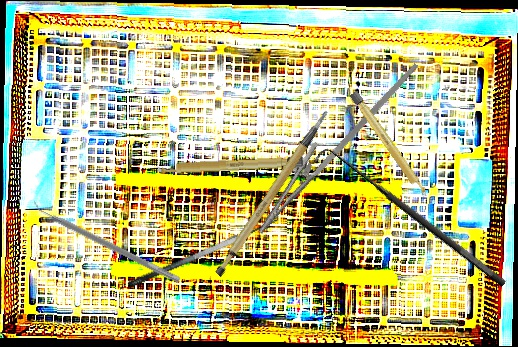Hook Surgical: (311, 137, 509, 302)
Needle Holder: (242, 35, 420, 252)
Scalpel Handle: (195, 110, 353, 279), (348, 90, 430, 200), (153, 155, 305, 175)
Spatula Surgical: (122, 206, 285, 290), (29, 198, 184, 284)
